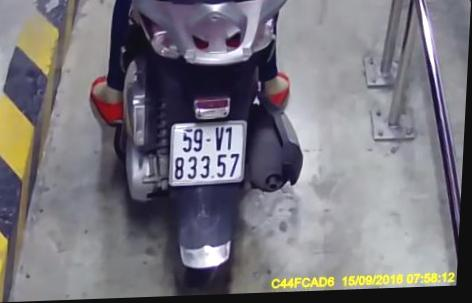License_Plate: (161, 116, 257, 192)
